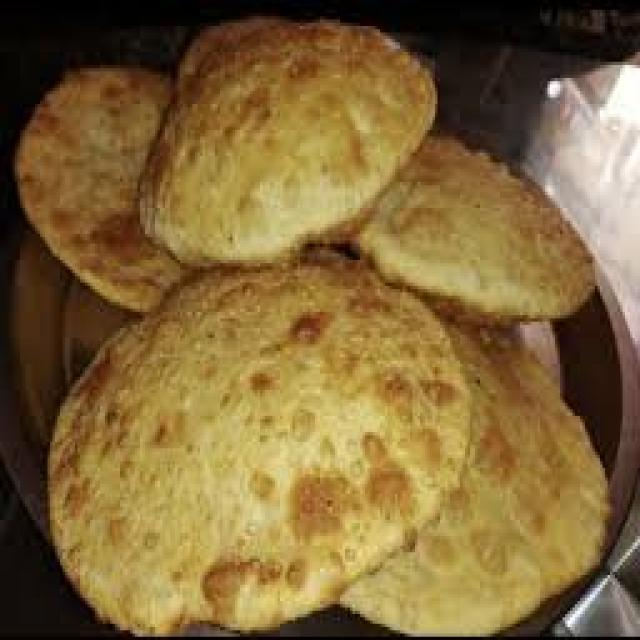puri: (17, 25, 597, 609)
